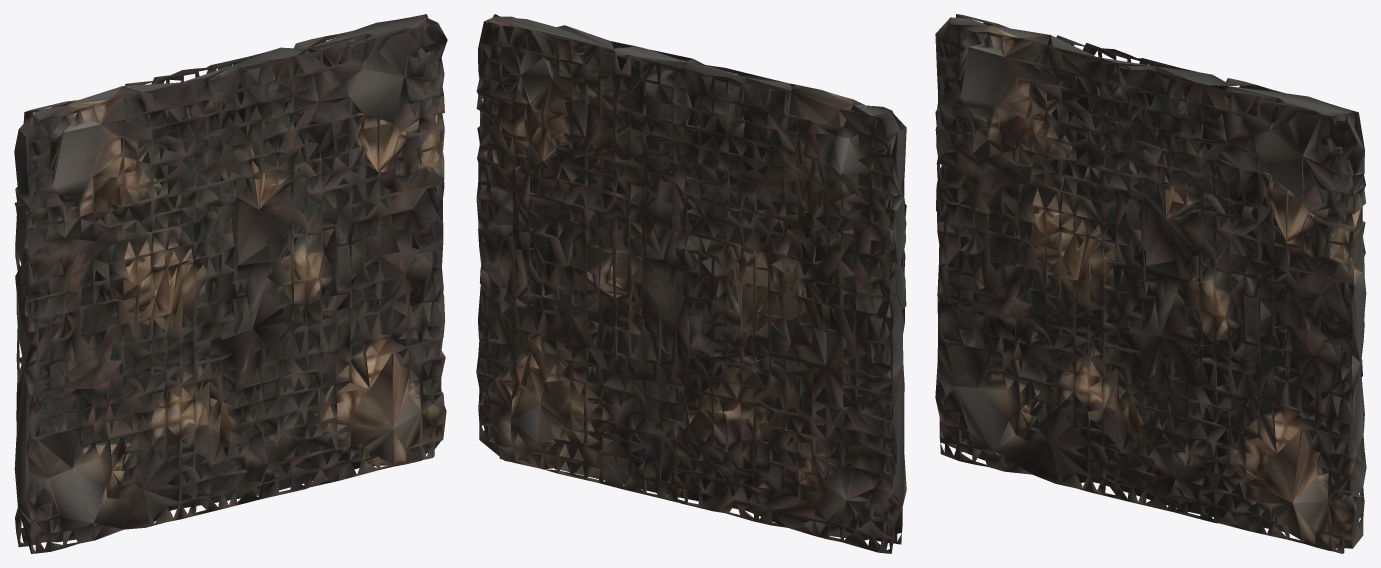
Rendered from mine_wall_mesh_idle.glb.
3 renders of one model, left to right at view 1: azimuth 30°, elevation 25°; view 2: azimuth 150°, elevation 25°; view 3: azimuth 330°, elevation 25°, orthographic.
Parts seen in each view (by area): view 1: tripo_node_019772a3-082a-4283-b156-56de6235372a; view 2: tripo_node_019772a3-082a-4283-b156-56de6235372a; view 3: tripo_node_019772a3-082a-4283-b156-56de6235372a.
Boxes of the visible parts, <box> form: tripo_node_019772a3-082a-4283-b156-56de6235372a: <box>14,14,447,553</box>; tripo_node_019772a3-082a-4283-b156-56de6235372a: <box>476,14,906,553</box>; tripo_node_019772a3-082a-4283-b156-56de6235372a: <box>935,14,1366,553</box>.
Size of the model in its own units: 1.01 by 0.9984 by 0.0851.
1 material, 1 textured.
